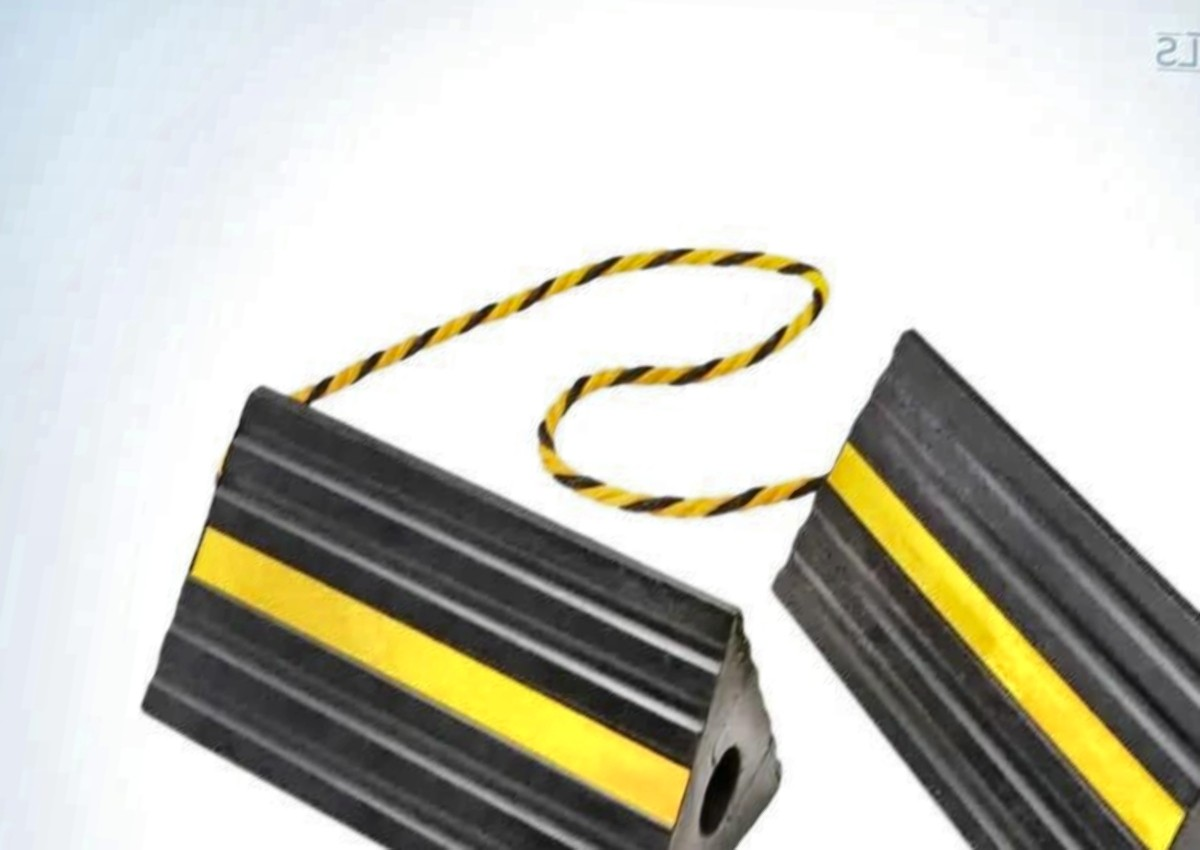chock: (102, 365, 802, 850), (741, 303, 1200, 850)
